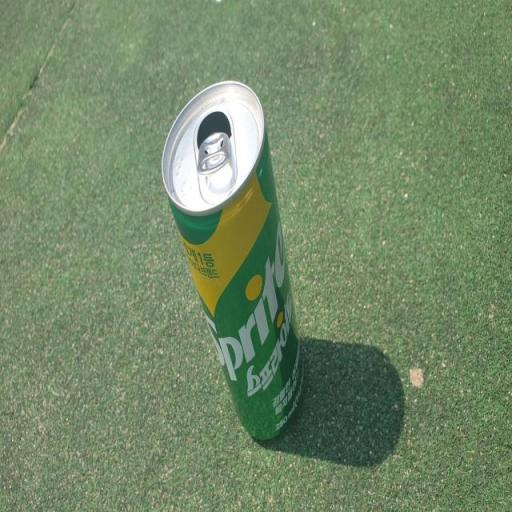metal: (149, 60, 313, 453)
